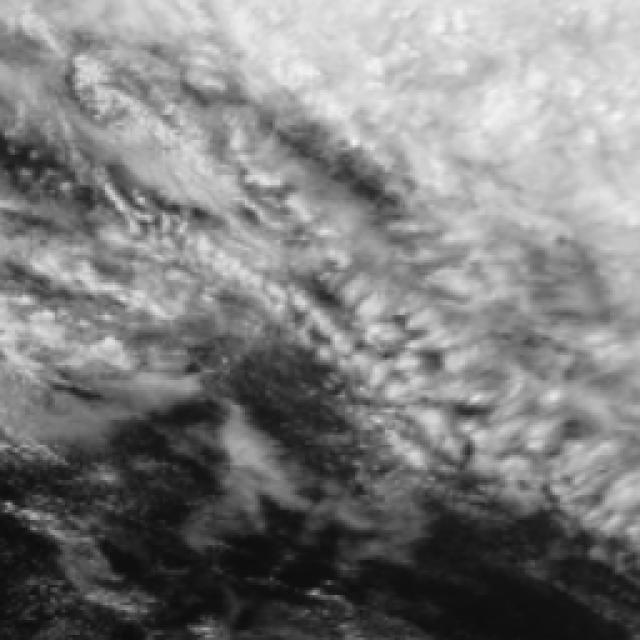CB: (317, 3, 640, 107)
